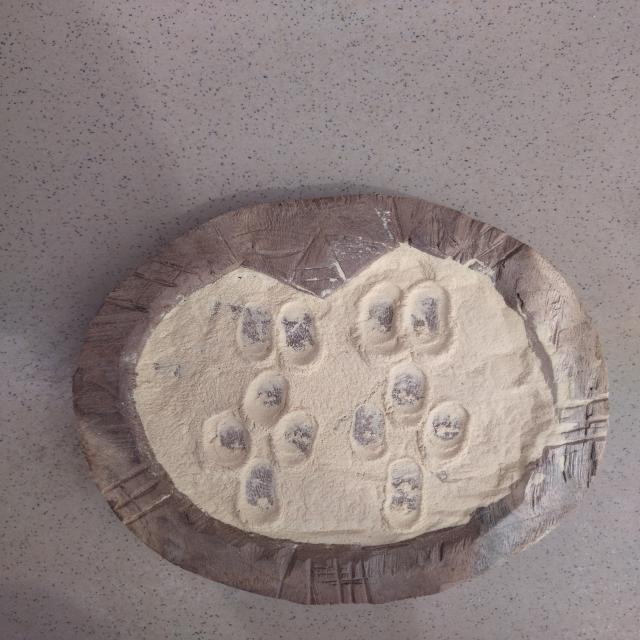double: (348, 401, 474, 466), (360, 281, 458, 362), (199, 412, 325, 474), (234, 298, 329, 372)
single: (232, 458, 285, 530), (382, 358, 432, 431), (384, 453, 430, 532), (243, 368, 289, 432)
